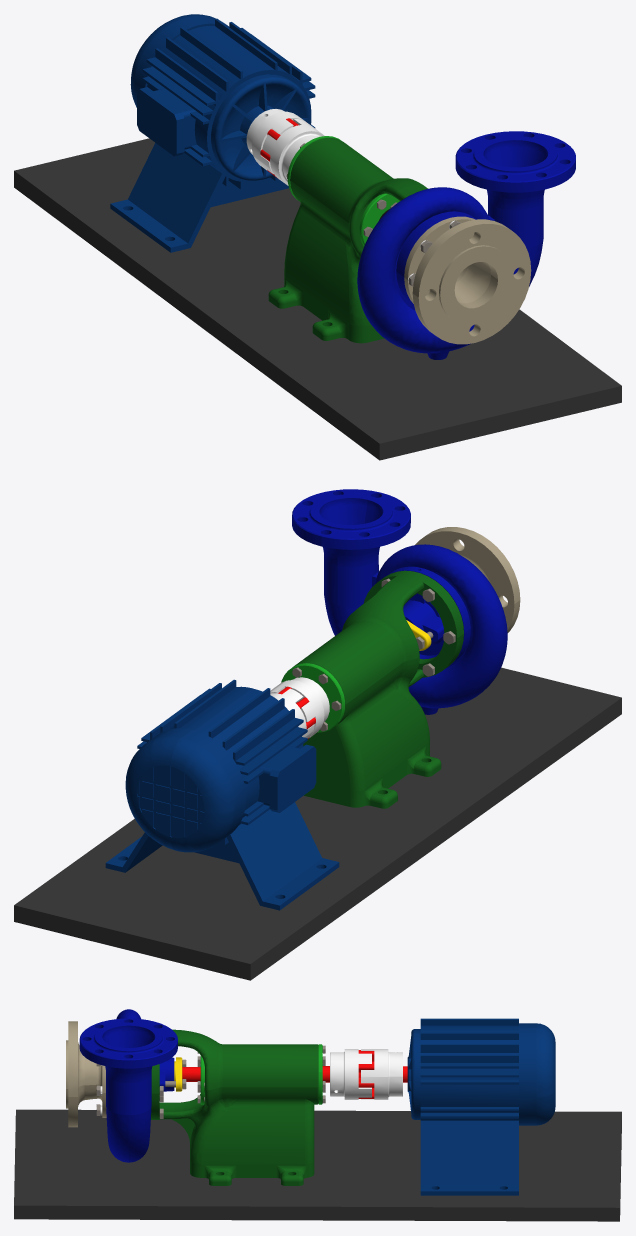
3 renders of one model, top to bottom at view 1: azimuth 30°, elevation 25°; view 2: azimuth 150°, elevation 25°; view 3: azimuth 270°, elevation 25°, orthographic. The views are drawn at different scales.
Parts seen in each view (by area): view 1: 地板, 电机1, 泵壳蜗壳, 泵体, 入口法兰, 联轴器1_Valor predeterminado (×2), 端盖; view 2: 地板, 电机1, 泵体, 泵壳蜗壳, 入口法兰, 联轴器1_Valor predeterminado, 端盖; view 3: 地板, 电机1, 泵体, 泵壳蜗壳, 联轴器1_Valor predeterminado (×2), 入口法兰, 轴, Drive Coupling Element_Valor predeterminado.
Boxes of the visible parts, x1,y1,x2,y2 form: 地板: (14,138,621,460); 电机1: (110,14,315,252); 泵壳蜗壳: (357,131,575,359); 泵体: (268,138,427,343); 入口法兰: (404,216,531,344); 联轴器1_Valor predeterminado (×2): (246,109,324,185); 端盖: (359,193,399,246); 地板: (14,667,621,980); 电机1: (105,679,339,910); 泵体: (292,570,463,808); 泵壳蜗壳: (292,489,507,714); 入口法兰: (415,527,520,632); 联轴器1_Valor predeterminado: (270,677,329,737); 端盖: (281,663,344,732); 地板: (14,1109,621,1221); 电机1: (407,1018,555,1195); 泵体: (151,1029,318,1185); 泵壳蜗壳: (79,1009,177,1162); 联轴器1_Valor predeterminado (×2): (330,1049,402,1099); 入口法兰: (66,1021,106,1127); 轴: (182,1066,329,1082); Drive Coupling Element_Valor predeterminado: (358,1050,374,1098).
Bounding box in the file's own units: 320 × 245 × 803.
